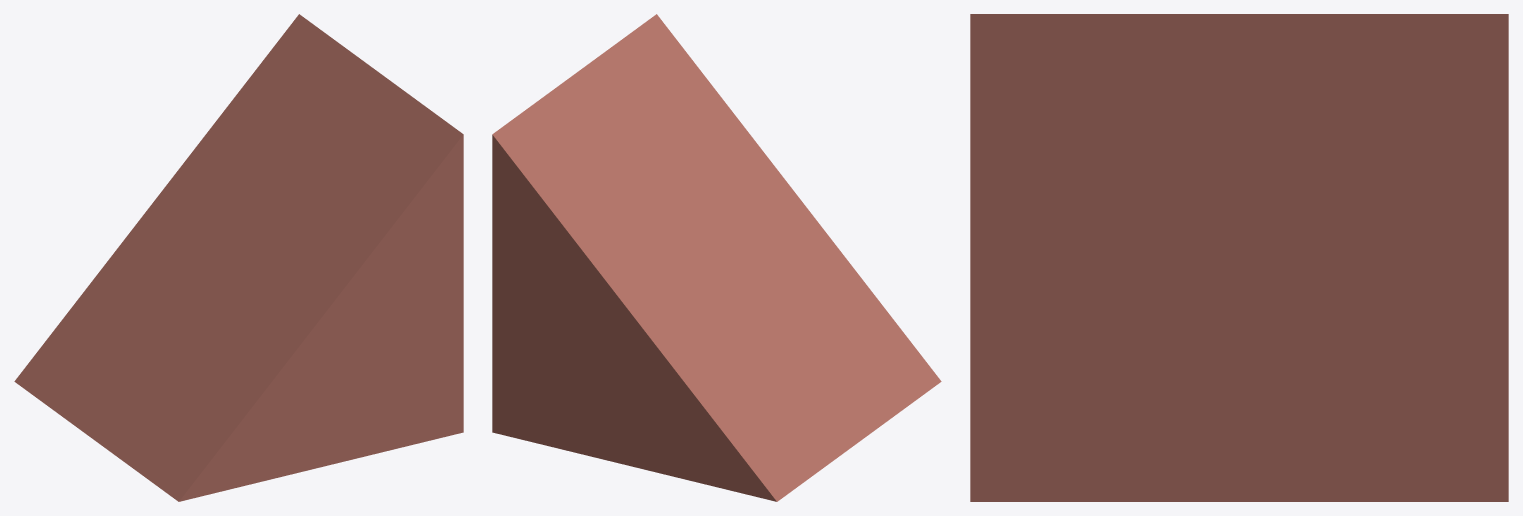
The model's file is Hazard_Slope.glb.
The picture shows the model from 3 angles, left to right: view 1: azimuth 30°, elevation 25°; view 2: azimuth 150°, elevation 25°; view 3: azimuth 270°, elevation 25°; orthographic projection. The views are drawn at different scales.
Visible parts, largest first — view 1: Hazard_Slope_body; view 2: Hazard_Slope_body; view 3: Hazard_Slope_body.
Boxes of the visible parts, x1,y1,x2,y2 form: Hazard_Slope_body: (14,14,463,501); Hazard_Slope_body: (492,14,941,501); Hazard_Slope_body: (970,14,1508,501).
Bounding box in the file's own units: 1 × 1 × 1.
